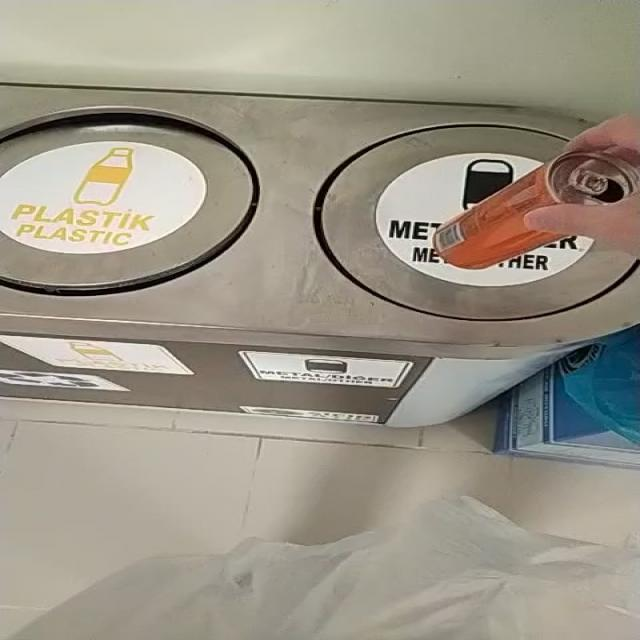Bin: (0, 86, 639, 427)
Metal: (436, 151, 640, 269)
